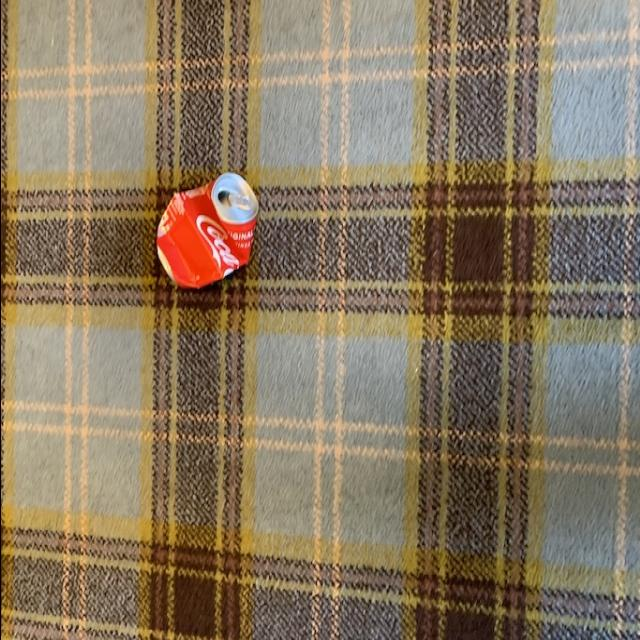Aluminum Can: (150, 171, 258, 289)
